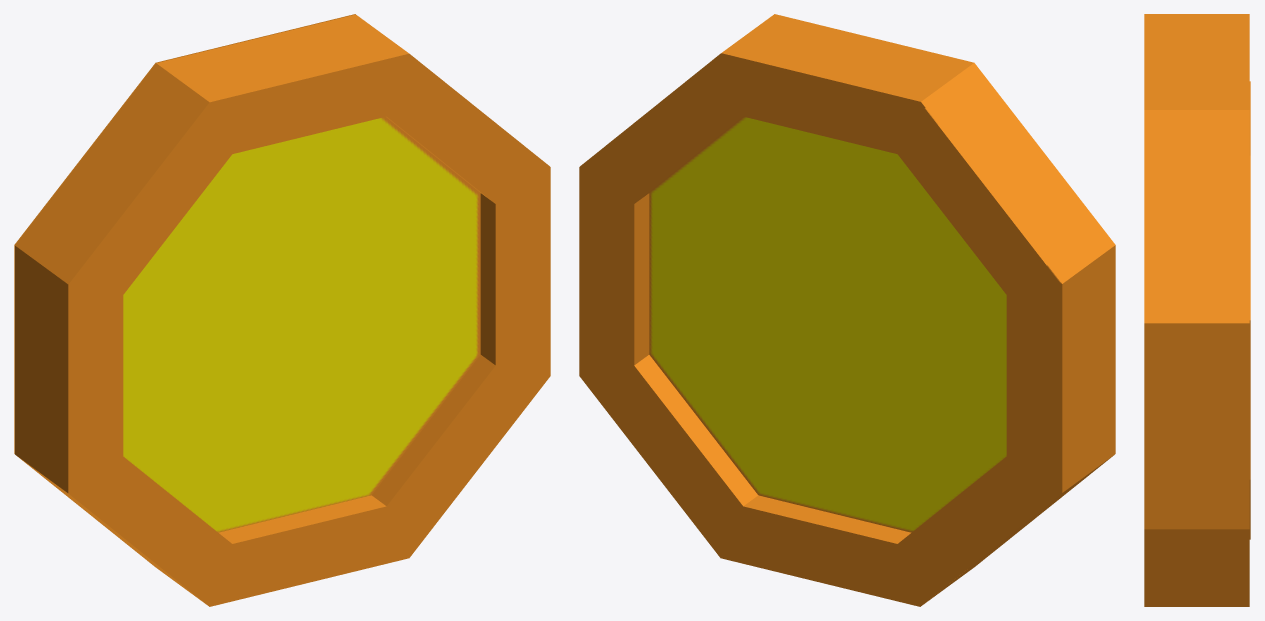
File: OctogonalCoin.fbx
The picture shows the model from 3 angles, left to right: view 1: azimuth 30°, elevation 25°; view 2: azimuth 150°, elevation 25°; view 3: azimuth 270°, elevation 25°; orthographic projection.
Visible parts, largest first — view 1: pCylinder1; view 2: pCylinder1; view 3: pCylinder1.
Part boxes in pixels (x1,y1,x2,y2): pCylinder1: [14, 14, 550, 606]; pCylinder1: [579, 14, 1115, 606]; pCylinder1: [1144, 14, 1250, 606].
Size of the model in its own units: 1.85 by 1.85 by 0.3593.
